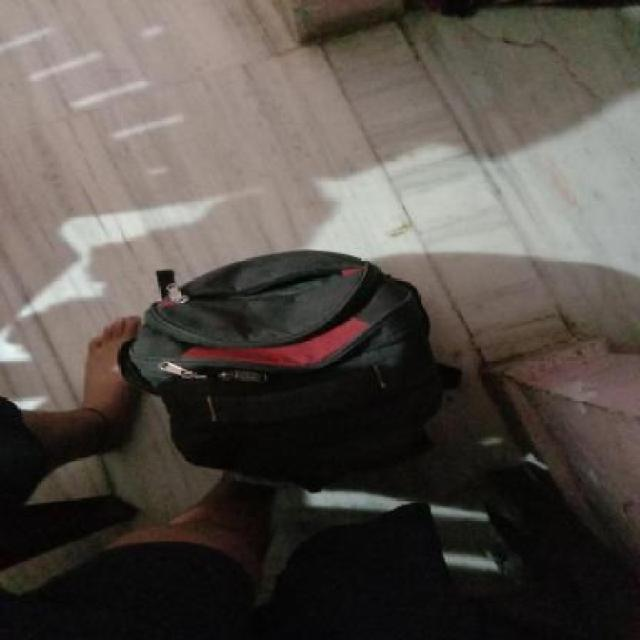backpack: (116, 246, 467, 486)
